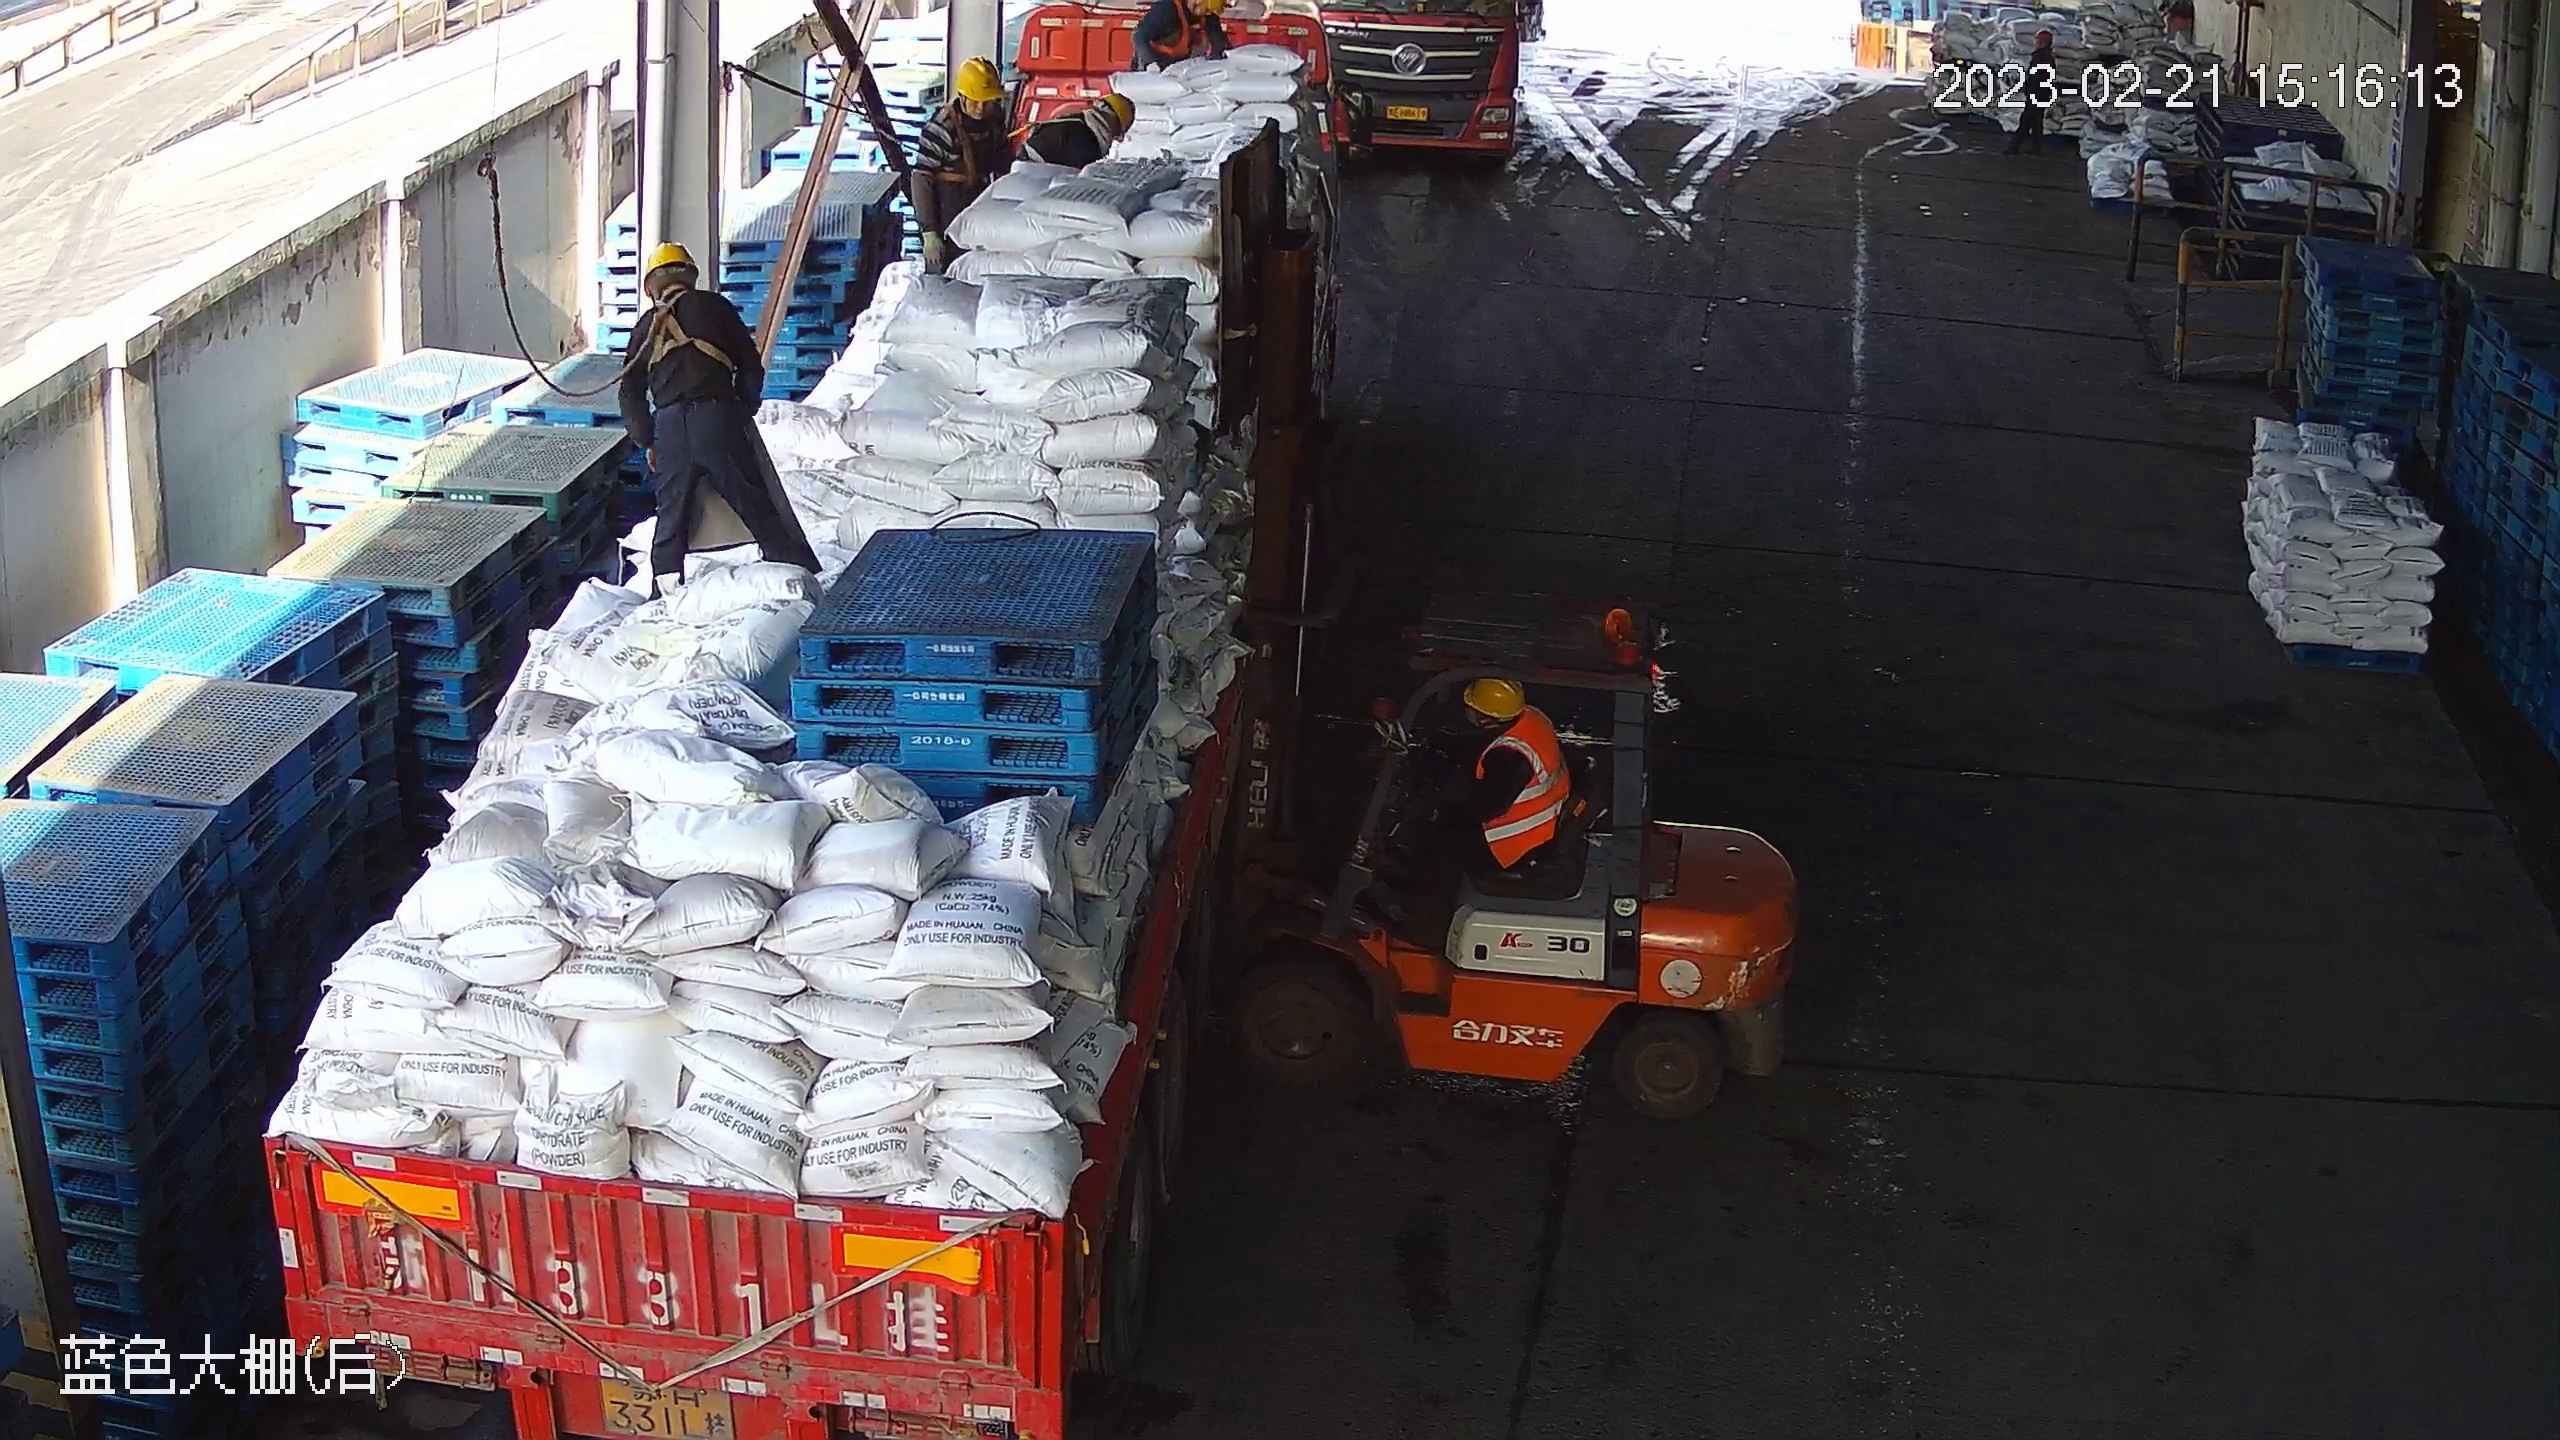belt: (633, 295, 742, 368), (1018, 114, 1082, 163), (941, 121, 982, 184)
head: (620, 242, 746, 351), (1453, 684, 1572, 779), (925, 57, 1018, 155), (1062, 88, 1137, 157)
helmet: (951, 53, 1012, 108), (1464, 670, 1527, 720), (635, 236, 705, 273), (1099, 90, 1146, 140)
people: (616, 244, 827, 591), (1403, 677, 1580, 912)
truck: (249, 1, 1351, 1440), (1312, 3, 1538, 177)
